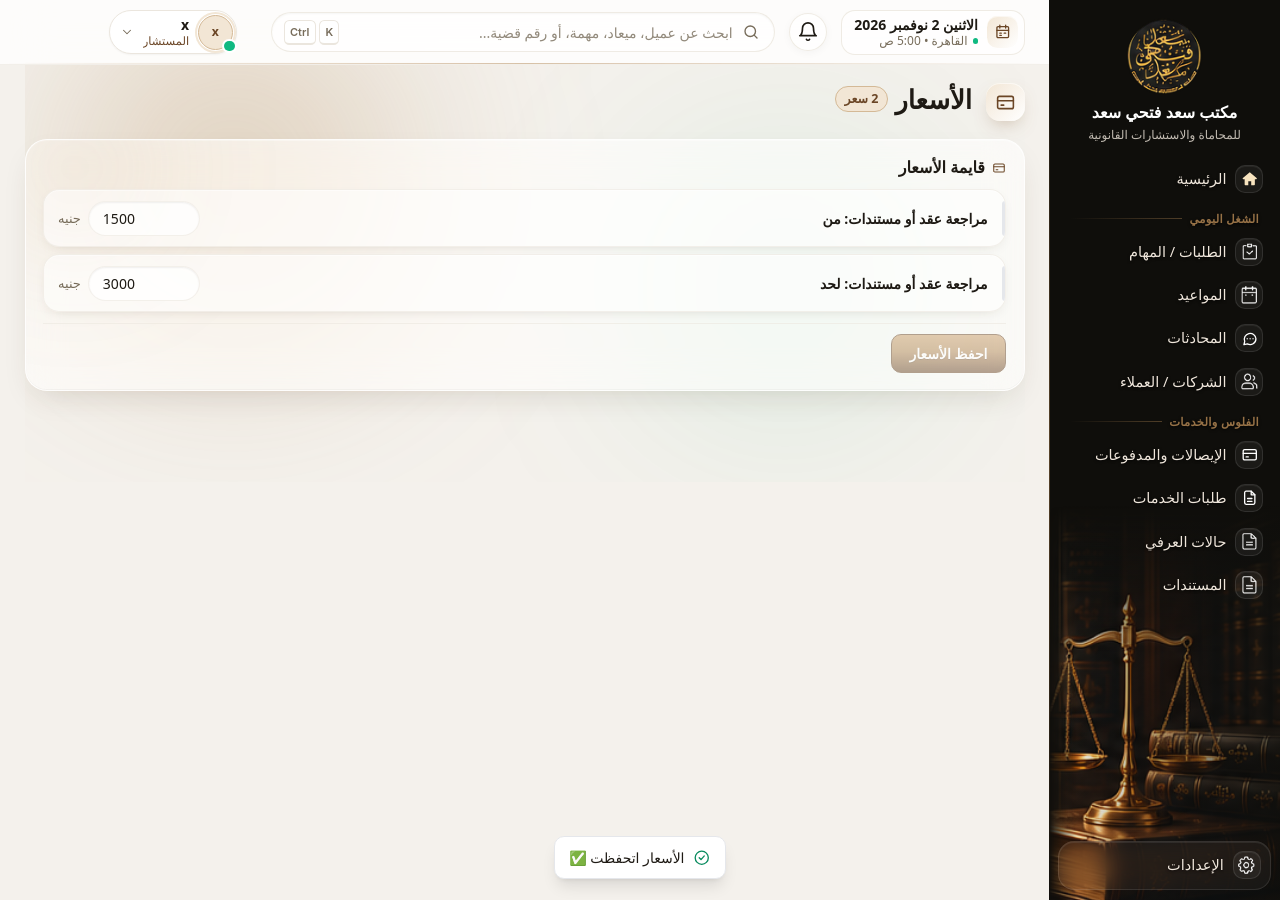
Test case: TASK 06 prices › an emptied price or a review range upside down is never saved
The width and height of the screenshot is (1280, 900).
Clear the number field labelled "مراجعة عقد أو مستندات: من" at [144, 218], box [88,201,200,236]
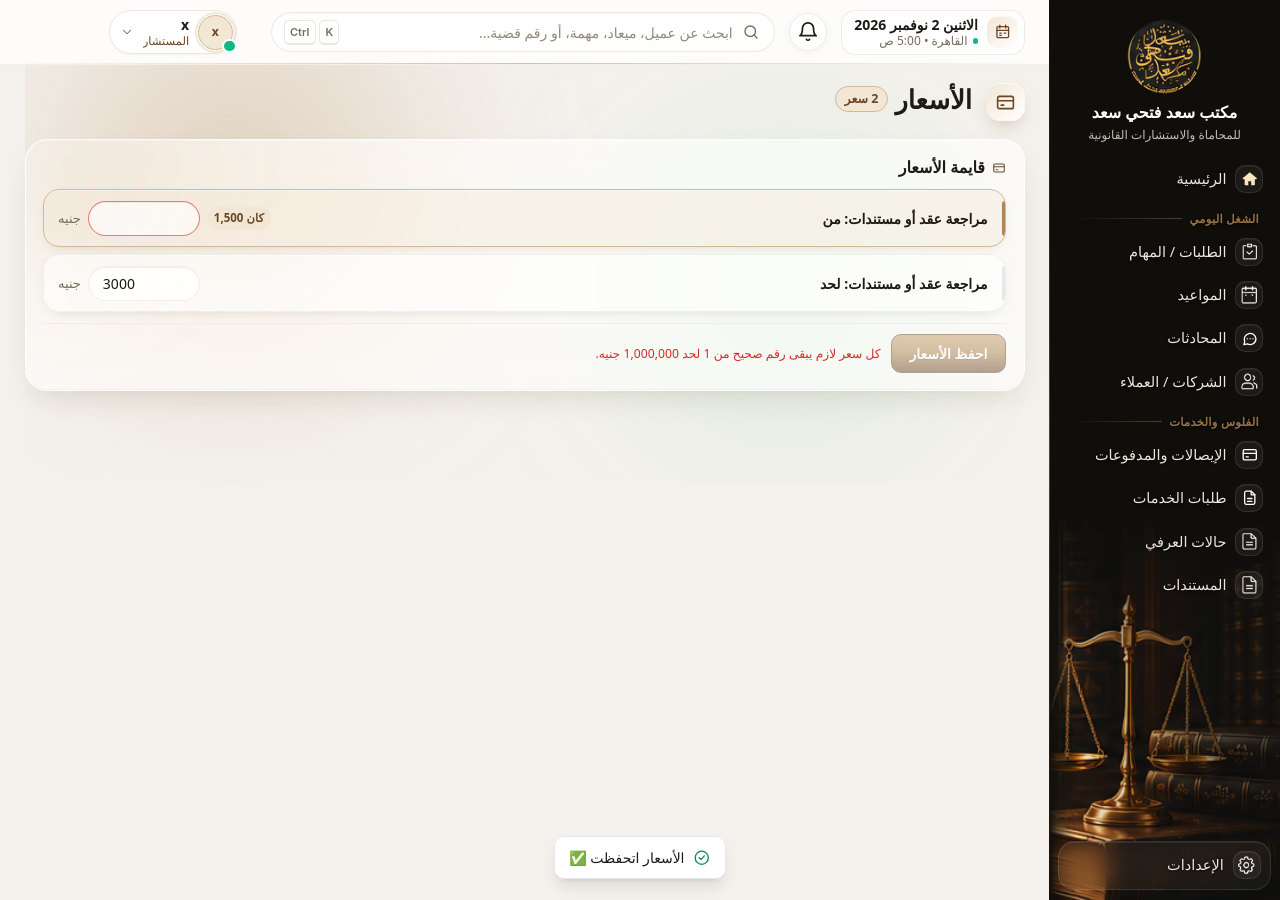
Expected: the button "احفظ الأسعار" is disabled, [891,334,1006,373]
Expected: the text "كل سعر لازم يبقى رقم صحيح من 1 لحد 1,000,000 جنيه." is shown, [595,345,881,362]
Type "4000" into the number field labelled "مراجعة عقد أو مستندات: من" at [144, 218], box [88,201,200,236]
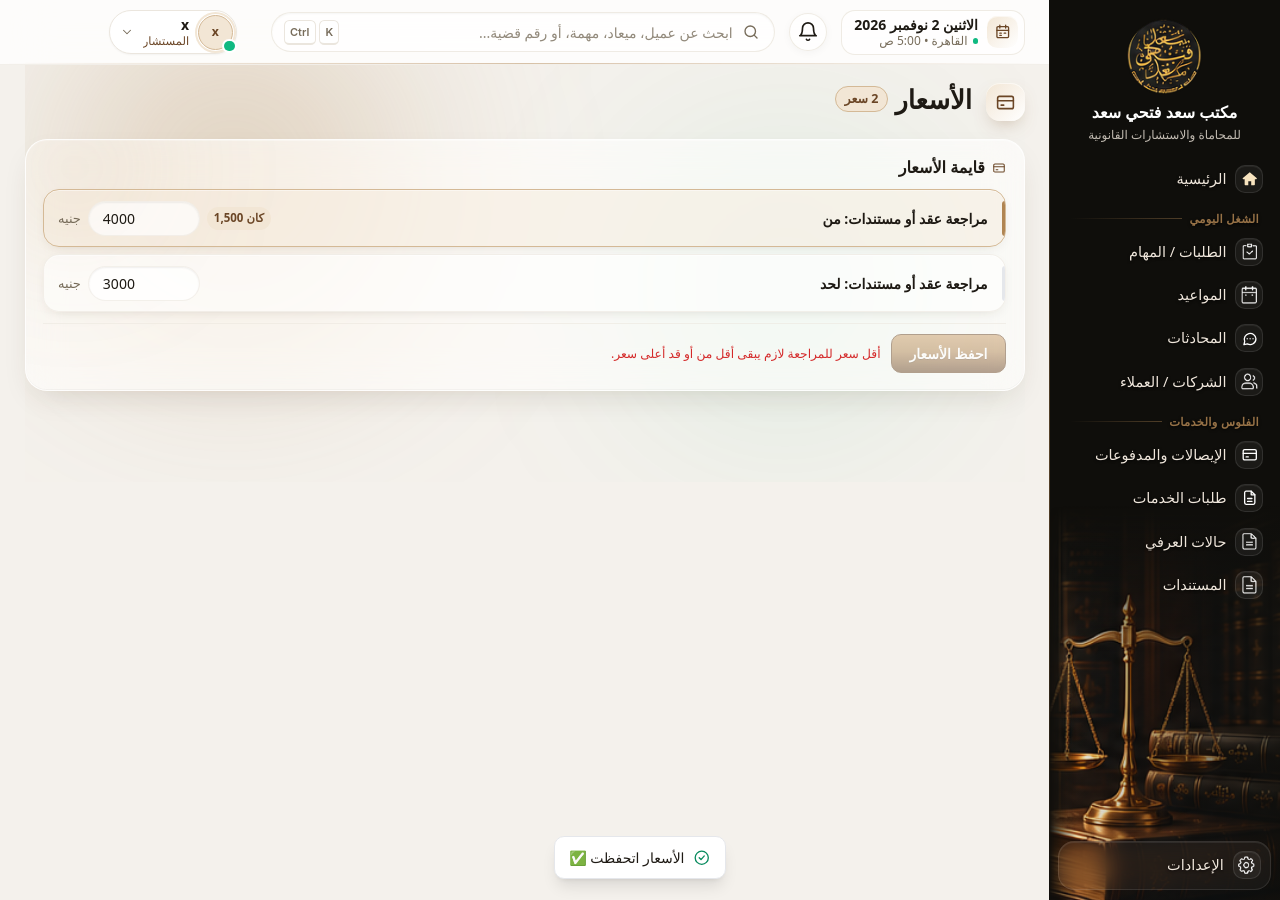
Expected: the button "احفظ الأسعار" is disabled, [891,334,1006,373]
Expected: the text "أقل سعر للمراجعة لازم يبقى أقل من أو قد أعلى سعر." is shown, [611,345,880,362]
Replace the text in the number field labelled "مراجعة عقد أو مستندات: من" with "2000" at [144, 218], box [88,201,200,236]
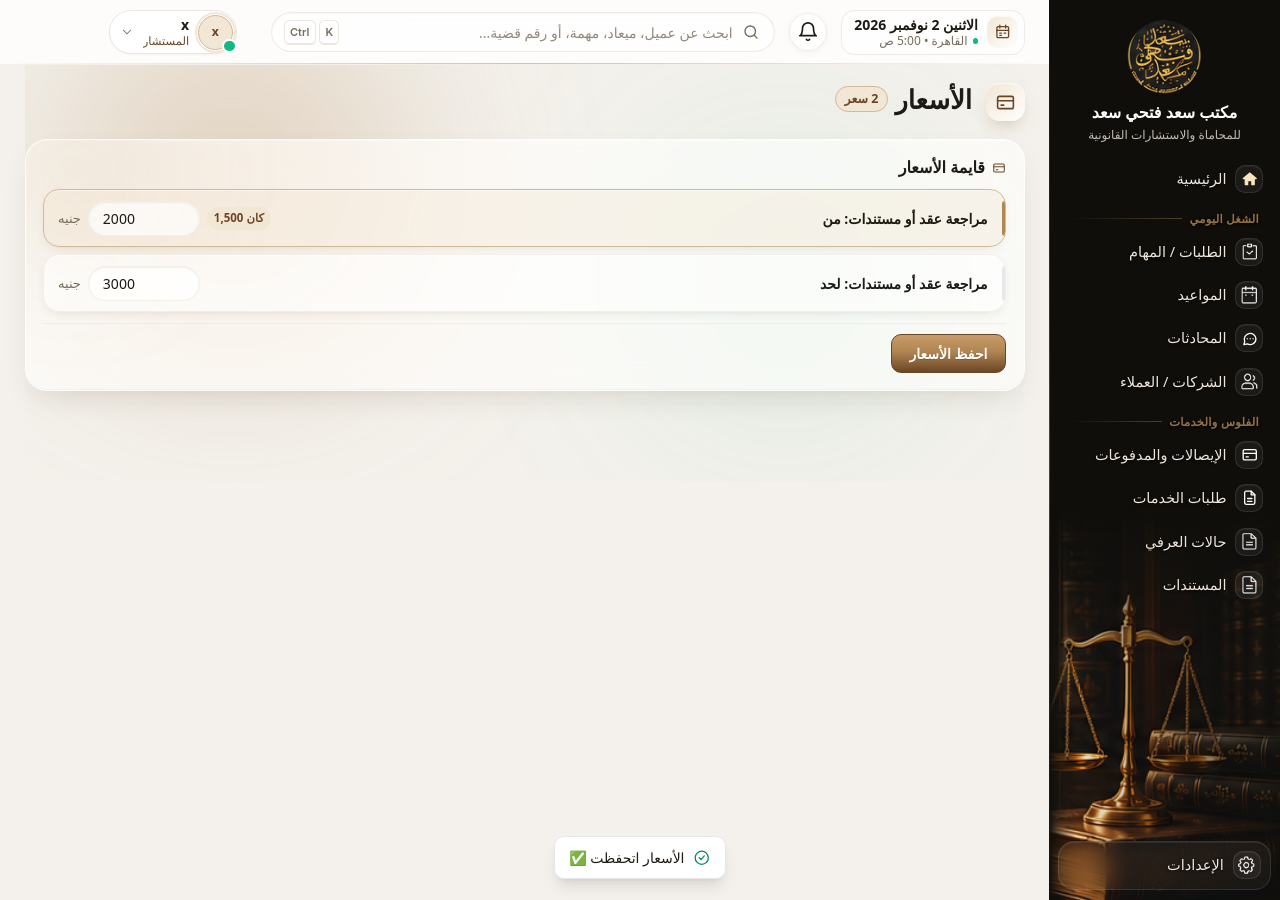
Expected: the button "احفظ الأسعار" is enabled, [891,334,1006,373]
